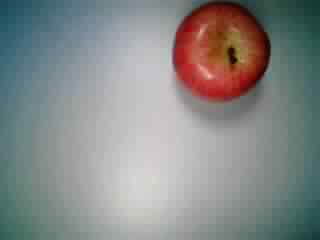apple: (170, 1, 274, 101)
